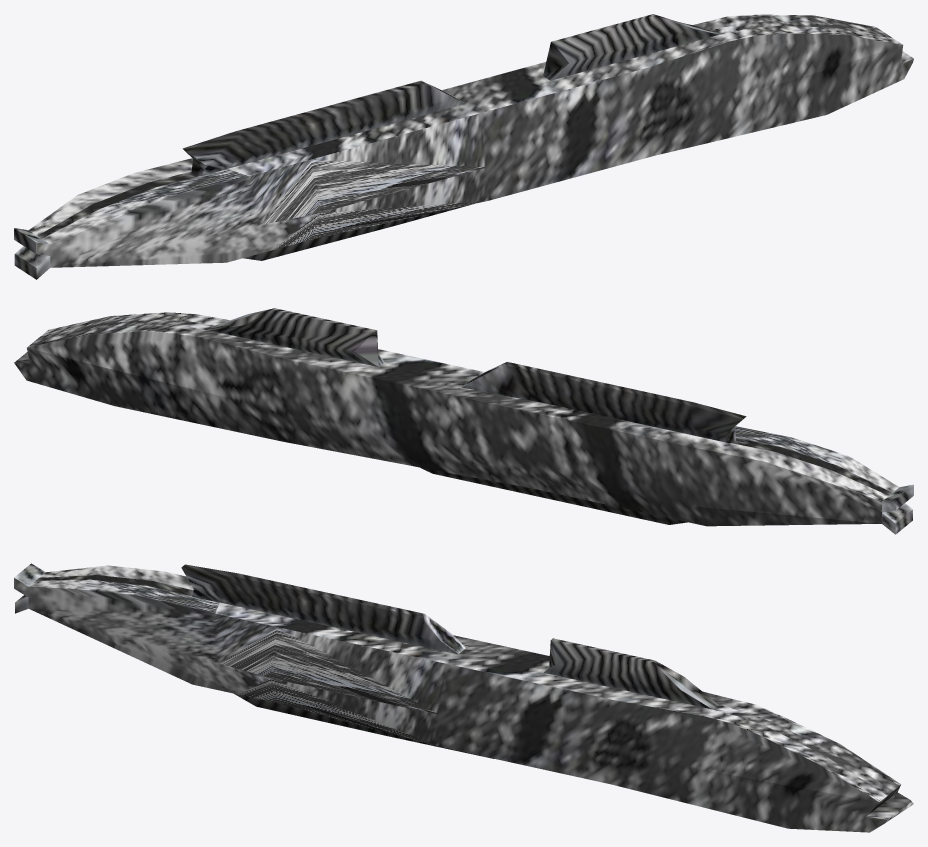
File: Toothfish_A.fbx
3 renders of one model, top to bottom at view 1: azimuth 30°, elevation 25°; view 2: azimuth 150°, elevation 25°; view 3: azimuth 330°, elevation 25°, orthographic. The views are drawn at different scales.
Parts seen in each view (by area): view 1: pCube1; view 2: pCube1; view 3: pCube1.
Part boxes in pixels (x1,y1,x2,y2): pCube1: (14,14,913,279); pCube1: (14,308,913,534); pCube1: (14,563,913,832).
Bounding box in the file's own units: 5.13 × 0.7422 × 0.5952.
1 material, 1 textured.
